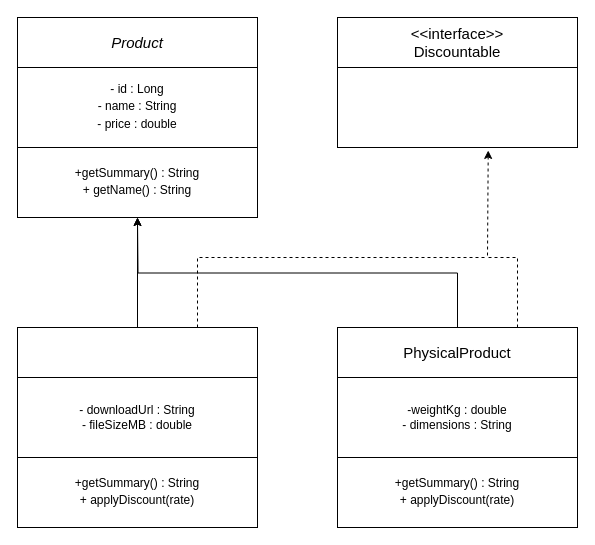
Image size: 595x545. Some labels were removed from this diagram. The box of each missing label's shape, as (x1, y1, x2, y2) in pixels:
+ applyDiscount(rate) + getDiscountedPrice(): (336, 66, 578, 148)
DigitalProduct: (16, 326, 258, 378)
